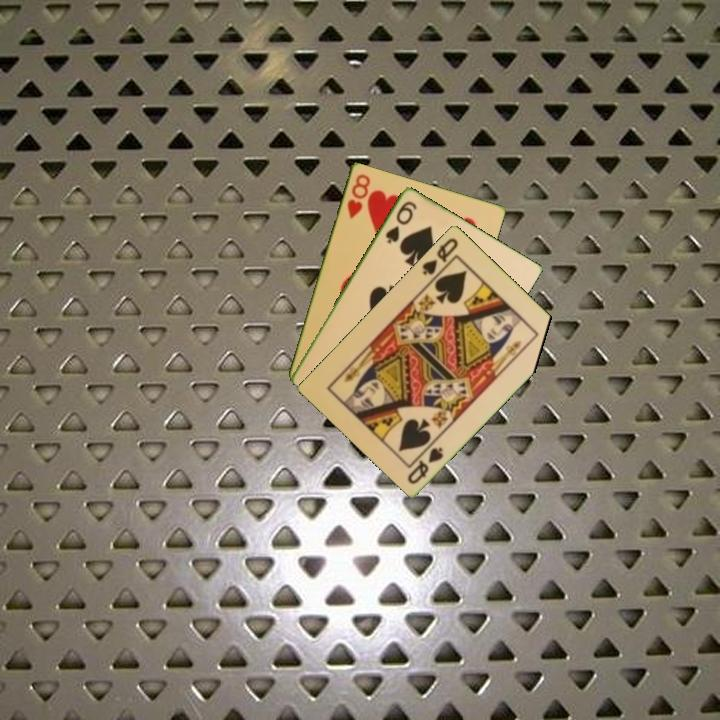6s: (381, 197, 420, 246)
8h: (343, 170, 373, 221)
Qs: (419, 234, 461, 278), (404, 443, 446, 487)
